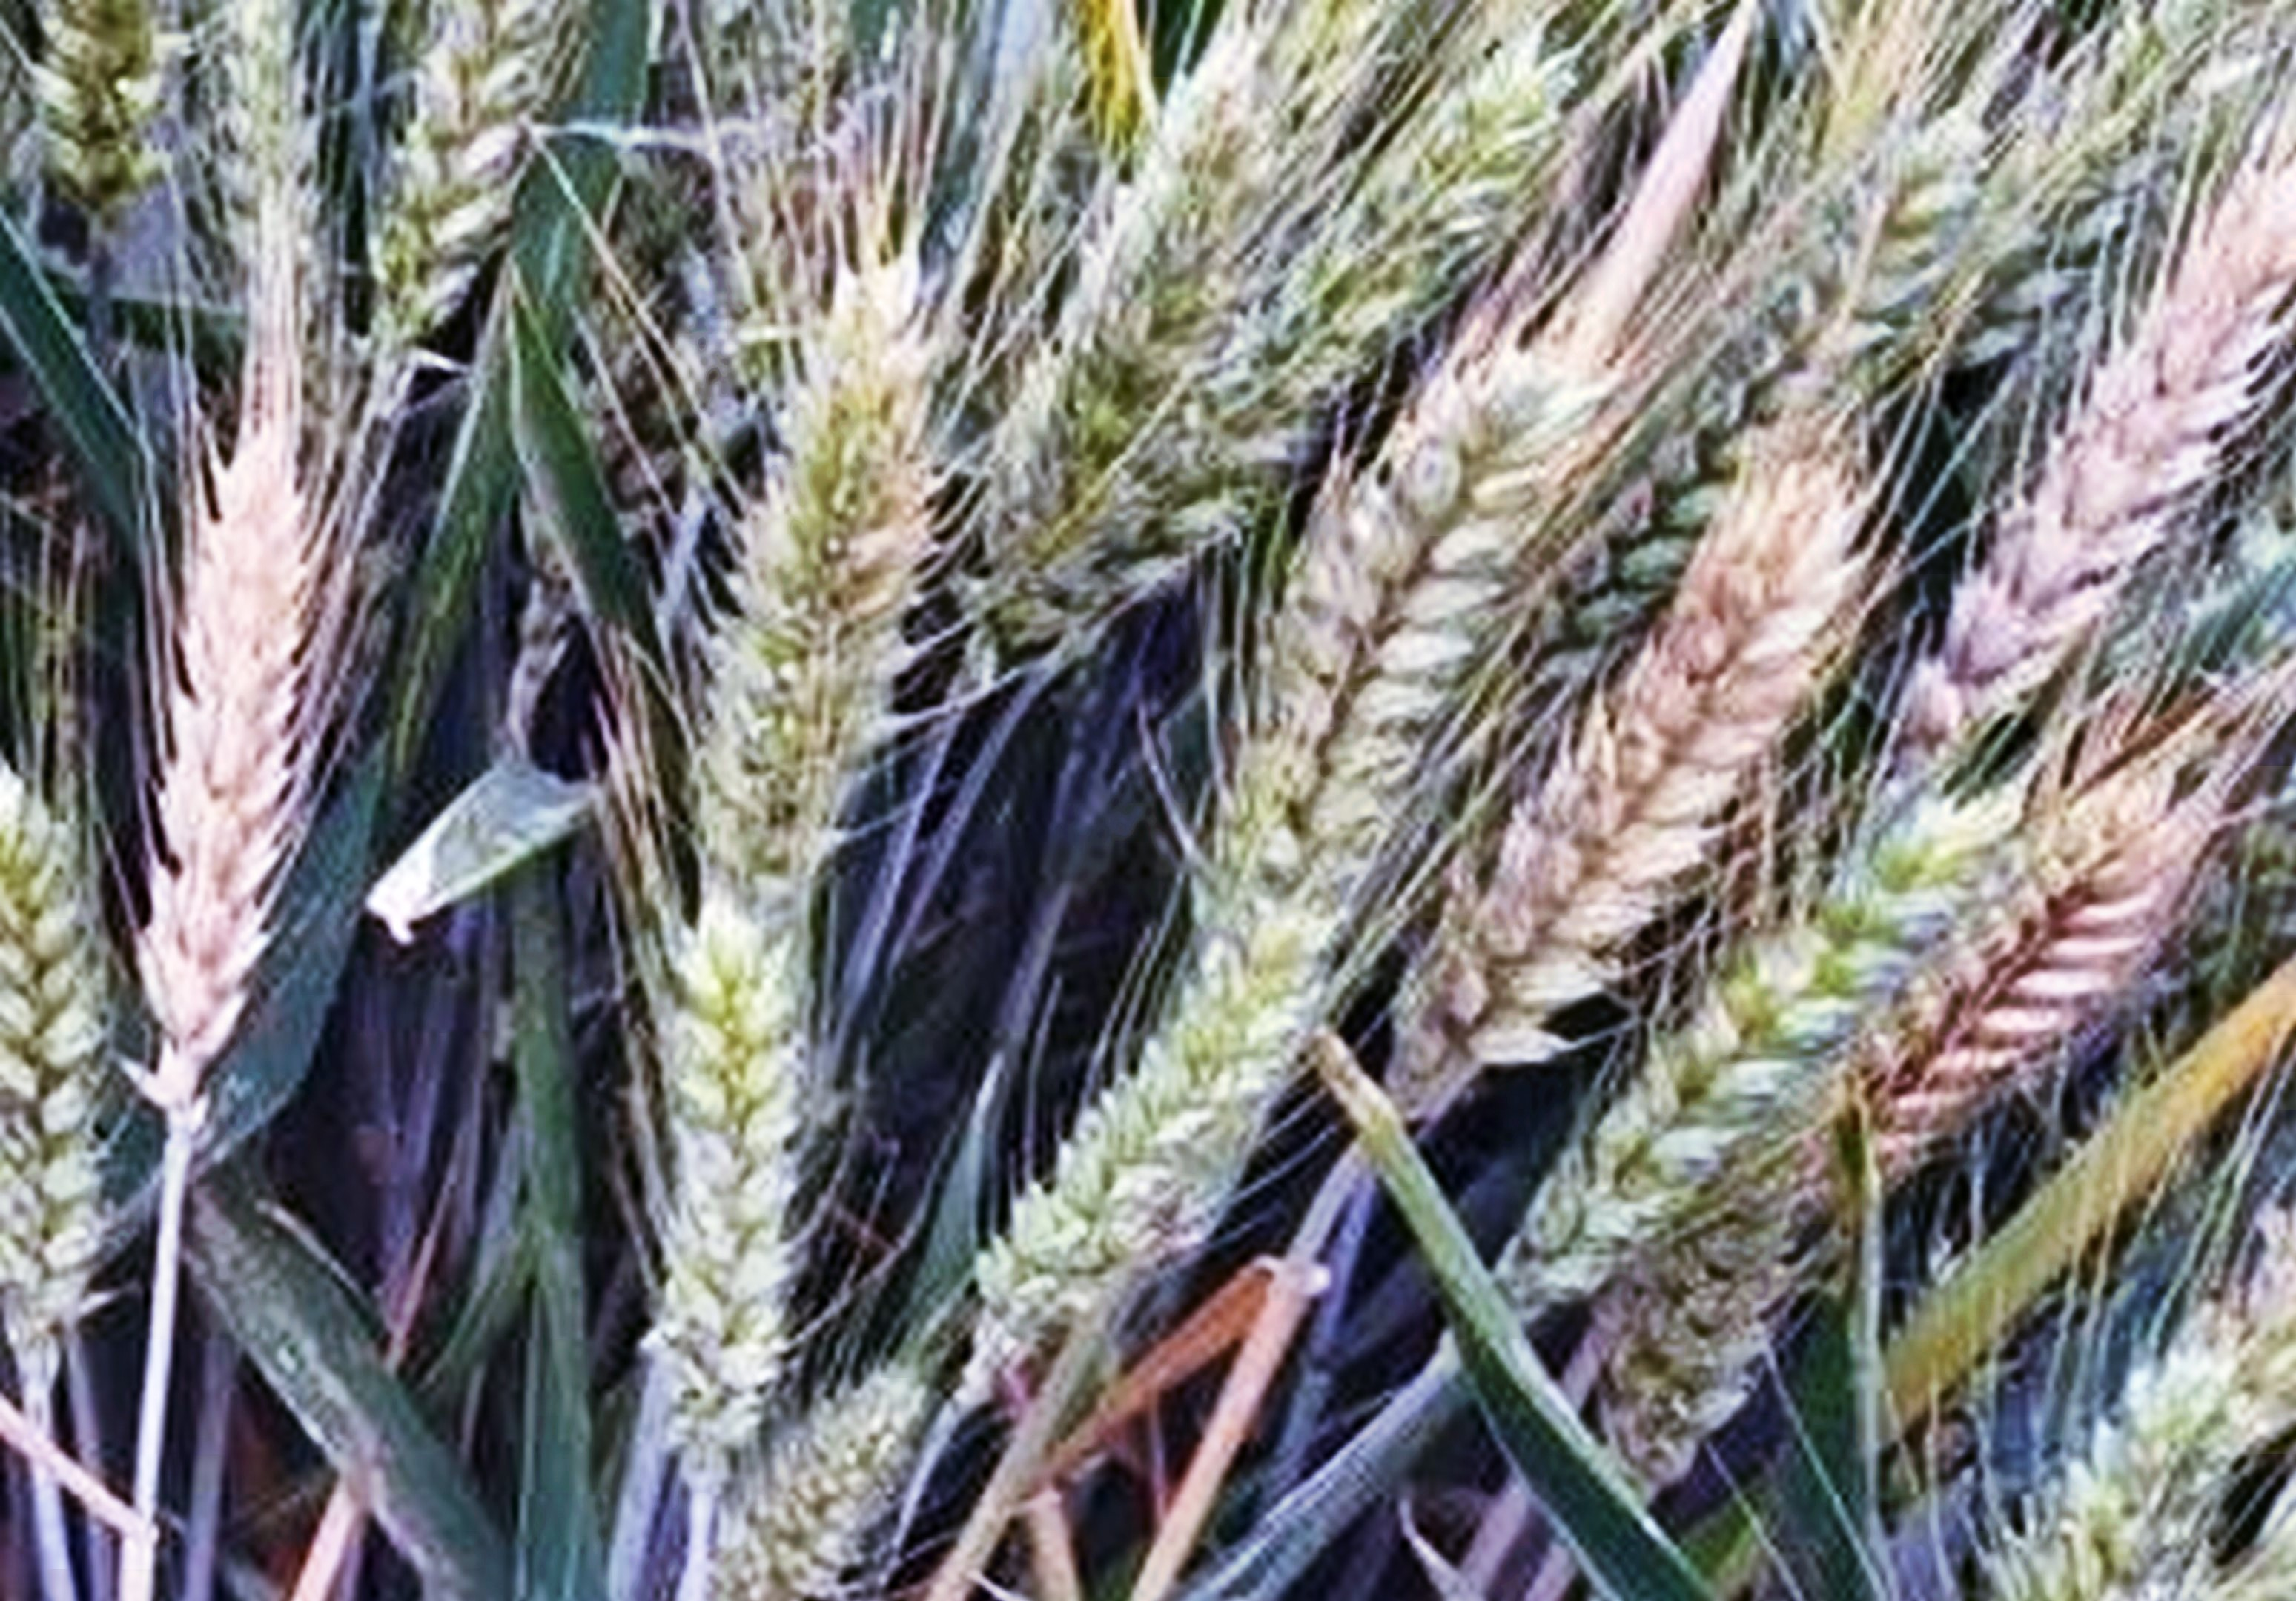Wheat scab: (1403, 499, 1863, 1073), (138, 406, 342, 1078)
